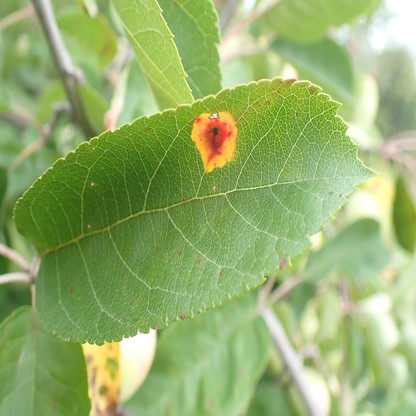rust: (192, 111, 236, 172)
